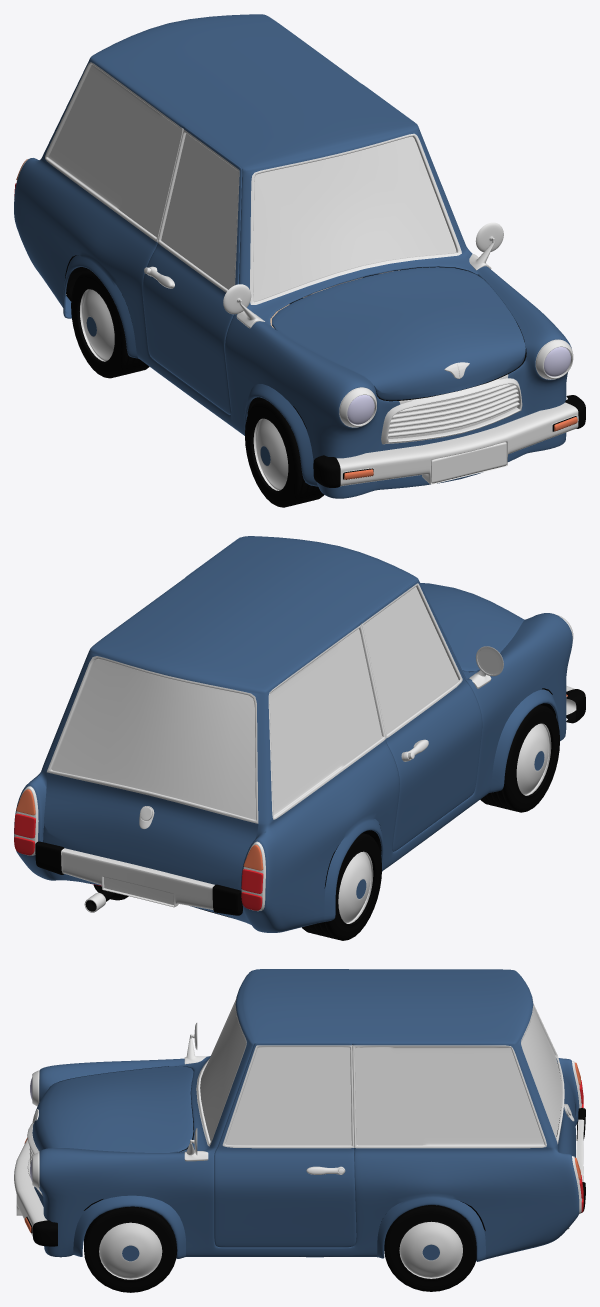
Rendered from cartoon azul.fbx.
3 renders of one model, top to bottom at view 1: azimuth 30°, elevation 25°; view 2: azimuth 150°, elevation 25°; view 3: azimuth 270°, elevation 25°, orthographic. The views are drawn at different scales.
Visible parts, largest first — view 1: chasis, motor, door side, bomper front, wheels, wheels.001, radiadotr, mirror, plate fornt, light front, bottom; view 2: chasis, door back, door side, bumper back, wheels, motor, wheels.001, light back, mirror, plate back, bomper front, smoke; view 3: chasis, door side, motor, wheels, wheels.001, door back, bomper front, mirror, bumper back.
Part boxes in pixels (x1,y1,x2,y2): chasis: (14, 14, 573, 498); motor: (272, 267, 525, 400); door side: (142, 84, 480, 414); bomper front: (313, 395, 585, 487); wheels: (245, 399, 323, 507); wheels.001: (71, 270, 149, 378); radiadotr: (388, 384, 519, 437); mirror: (223, 222, 503, 328); plate fornt: (431, 442, 506, 483); light front: (347, 347, 570, 424); bottom: (65, 255, 529, 490); chasis: (14, 536, 573, 932); door back: (43, 656, 258, 890); door side: (185, 537, 482, 851); bumper back: (35, 841, 242, 915); wheels: (480, 704, 559, 812); motor: (420, 583, 524, 671); wheels.001: (302, 833, 381, 940); light back: (14, 789, 263, 910); mirror: (469, 646, 503, 688); plate back: (104, 877, 173, 904); bomper front: (566, 685, 585, 723); smoke: (84, 884, 128, 912); chasis: (27, 969, 581, 1261); door side: (214, 969, 356, 1247); motor: (32, 1066, 193, 1152); wheels: (84, 1206, 177, 1292); wheels.001: (384, 1205, 476, 1291); door back: (521, 997, 575, 1157); bomper front: (14, 1138, 57, 1246); mirror: (184, 1023, 208, 1161); bumper back: (576, 1108, 585, 1212).
Bounding box in the file's own units: 191 × 183 × 395.
